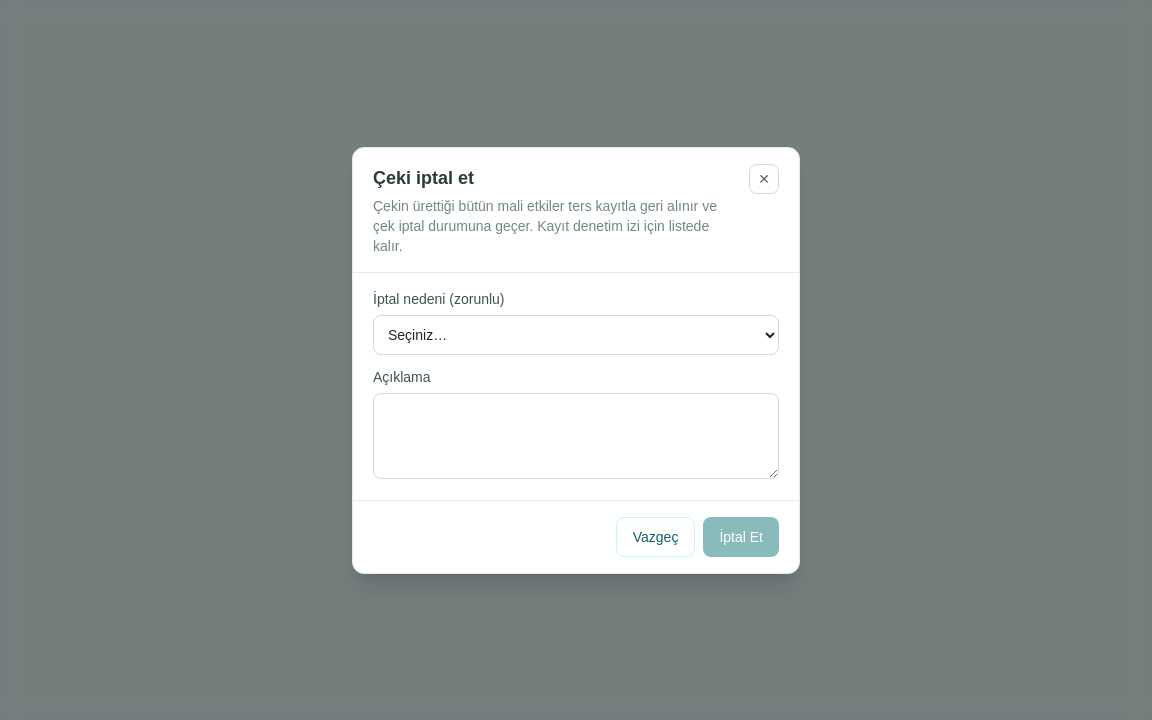
çek iptal diyaloğu › neden seçilince onay açılır ve sayılabilir neden gönderilir
Later steps or results of the test are not shown.
Select "Karşılıksız" in the dropdown at (576, 334), box [373, 314, 779, 354]
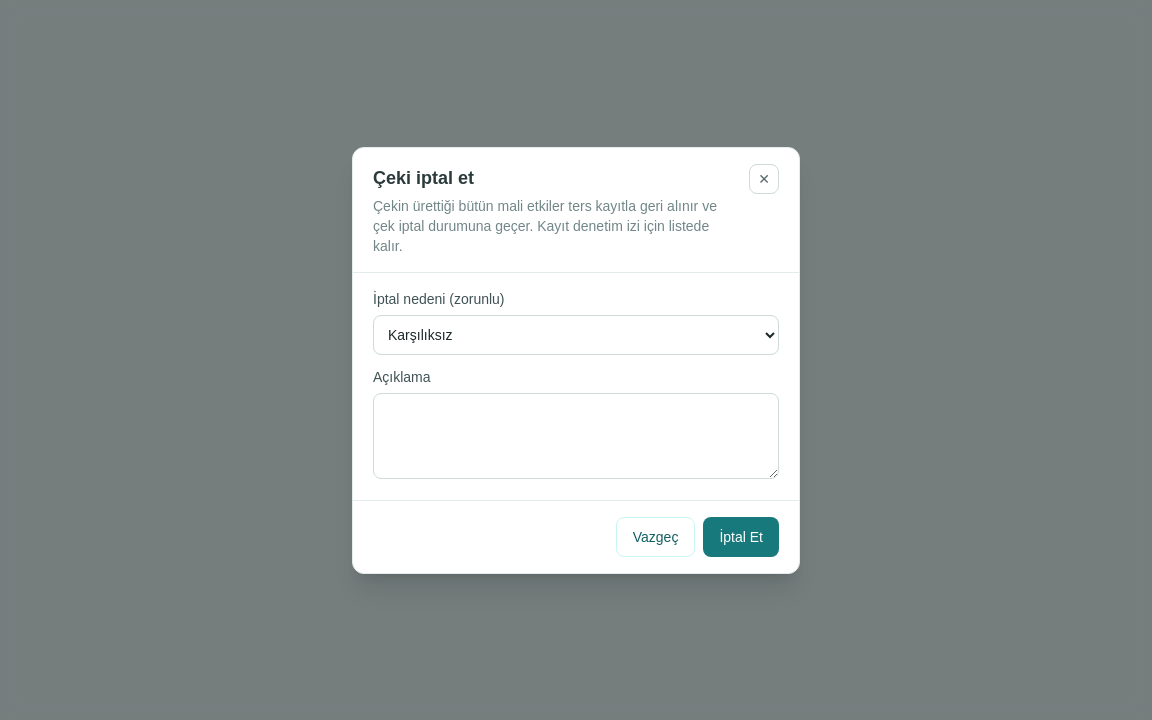
Now the button "İptal Et" is enabled, box [703, 516, 779, 556]
